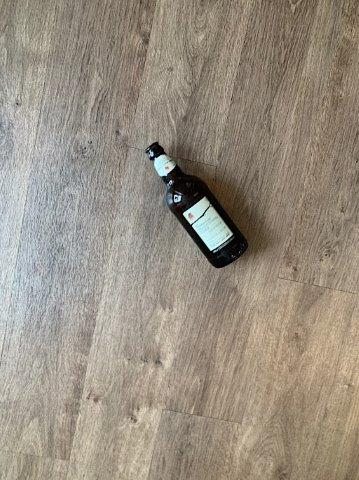botolkaca: (147, 142, 247, 266)
